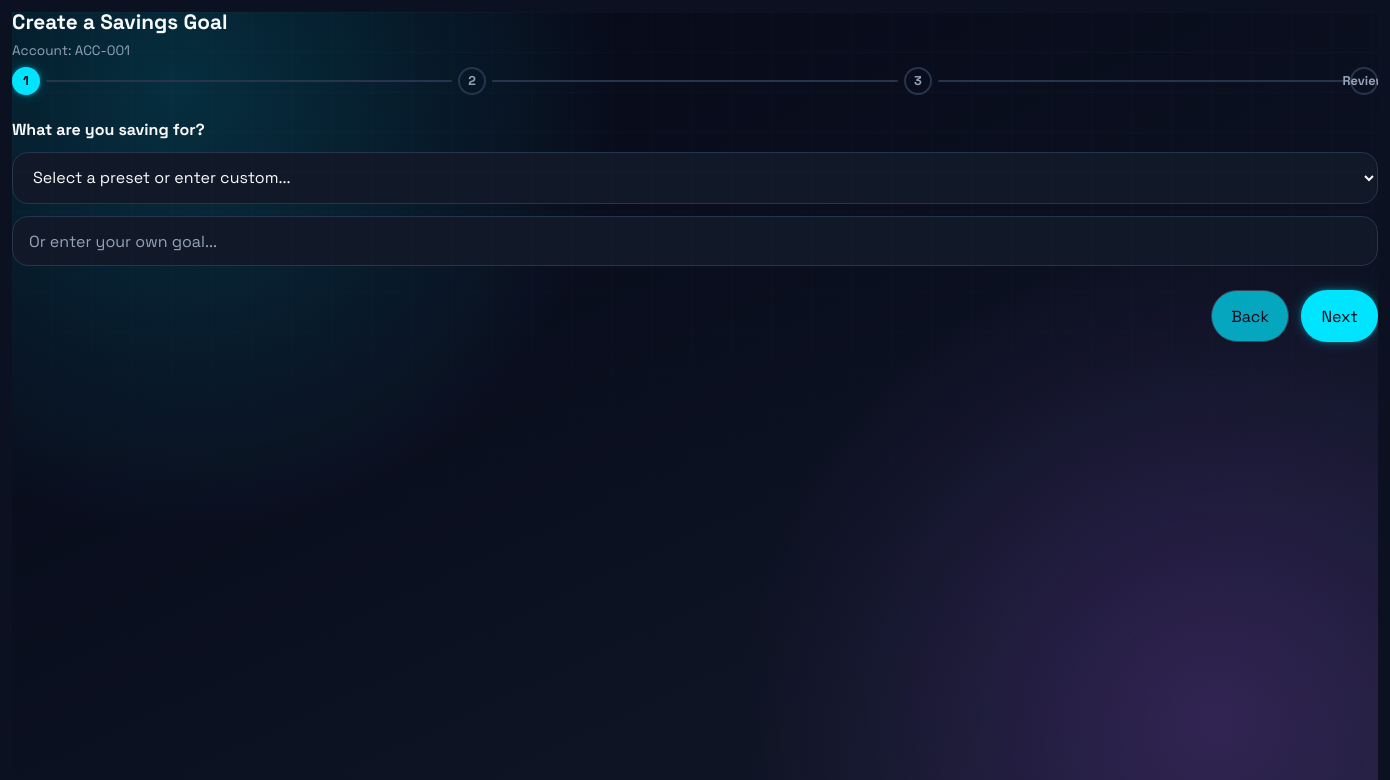
Scenario: GoalCreationFlow › shows validation error when goal name is empty and Next is clicked
Click the button "Next" at {"x": 1340, "y": 316}, box [1301, 290, 1378, 342]
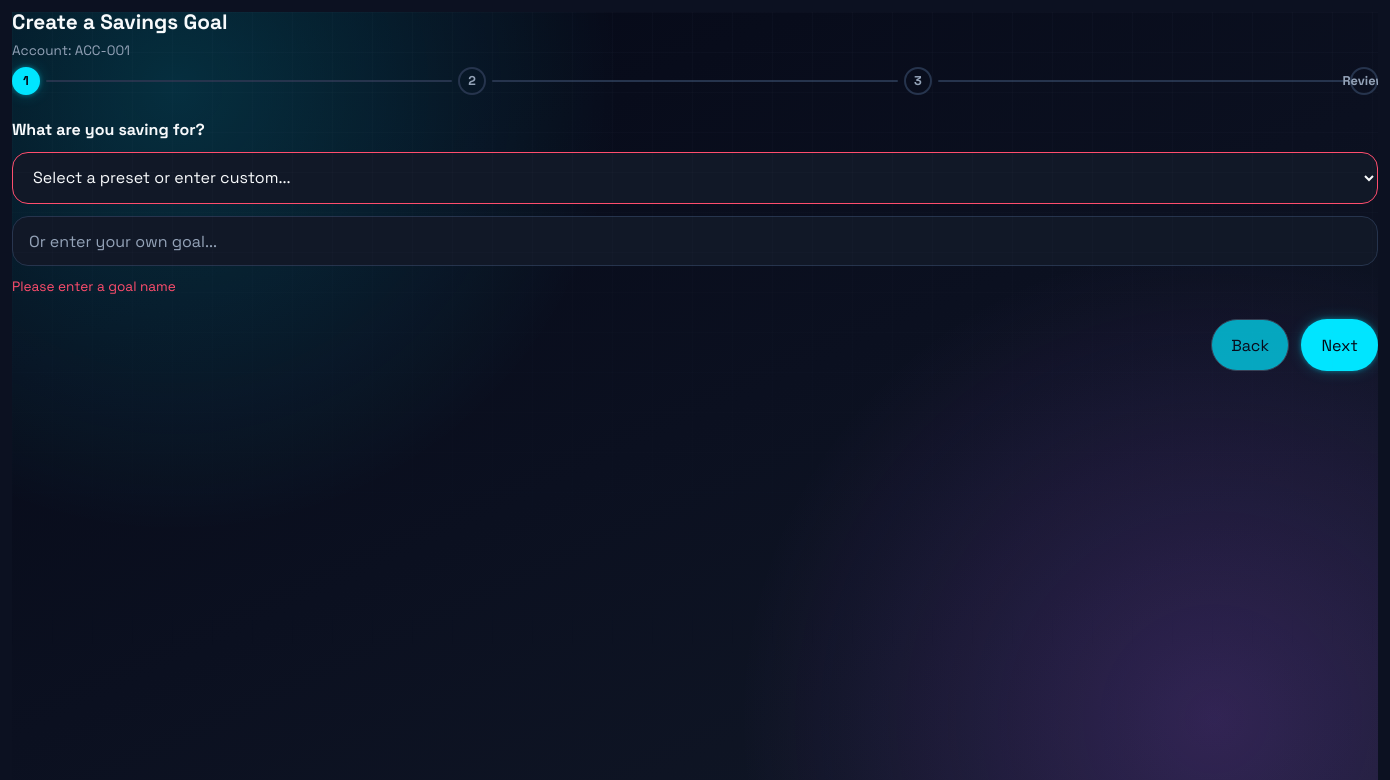
Check: the text "Please enter a goal name" is shown, box [12, 278, 176, 295]
